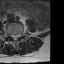CCS_normal: (14, 32, 16, 42)
LFS_normal: (18, 32, 21, 39)
LLS_normal: (16, 32, 18, 40)
RFS_normal: (9, 31, 11, 38)
RLS_normal: (12, 32, 14, 40)
